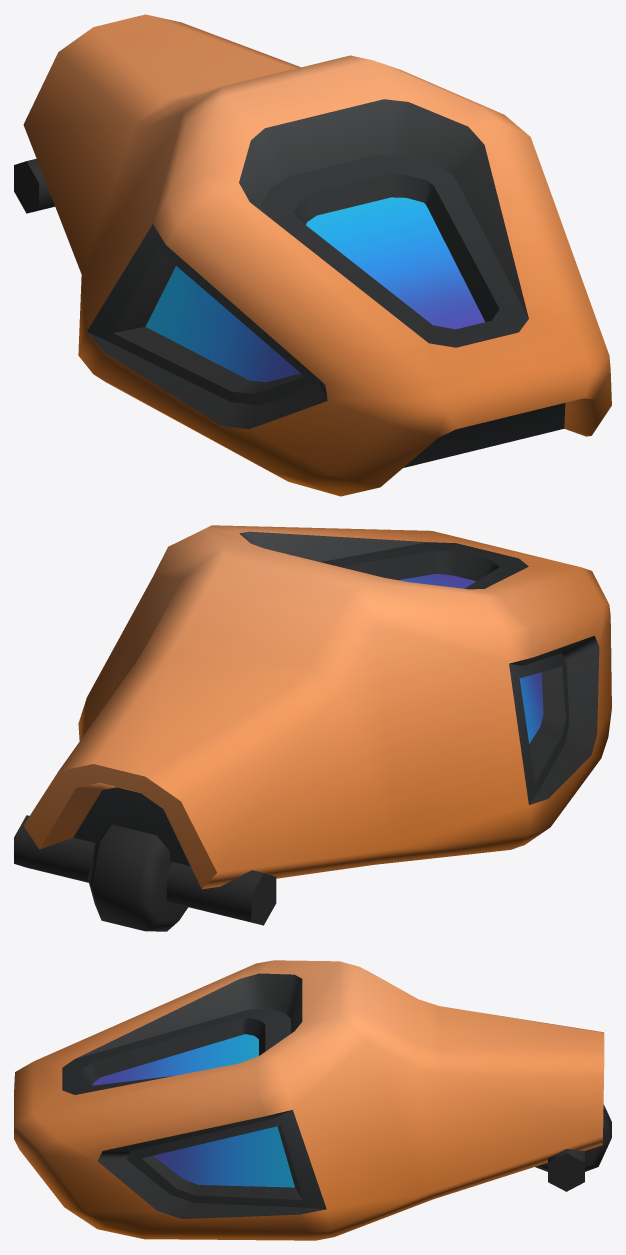
The model's file is drone_2_001.fbx.
3 views of the same model, one above another, from view 1: azimuth 30°, elevation 25°; view 2: azimuth 150°, elevation 25°; view 3: azimuth 270°, elevation 25° (orthographic). The views are drawn at different scales.
Parts seen in each view (by area): view 1: drone_2_001; view 2: drone_2_001; view 3: drone_2_001.
Boxes of the visible parts, x1,y1,x2,y2 form: drone_2_001: [14, 14, 611, 496]; drone_2_001: [14, 525, 611, 931]; drone_2_001: [14, 960, 611, 1240].
Bounding box in the file's own units: 226 × 347 × 128.
